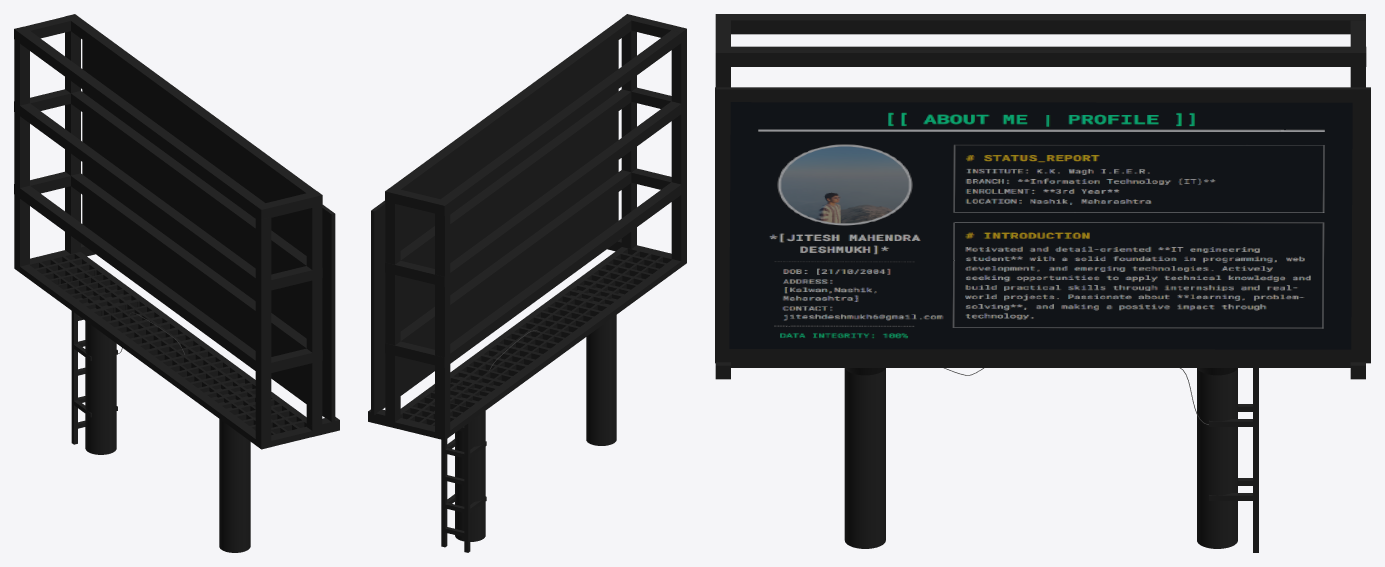
File: billboard1.glb
3 views of the same model, side by side, from view 1: azimuth 30°, elevation 25°; view 2: azimuth 150°, elevation 25°; view 3: azimuth 270°, elevation 25° (orthographic). The views are drawn at different scales.
Visible parts, largest first — view 1: Cube_3, Cube.002_5, Cube.009_12, Cube.010_14, Cube.008_13, Cylinder.001_35, Cube.007_11, Cylinder.002_6, Cube.006_10, Cube.004_8, Cube.005_9, Cube.019_23 (+6 smaller); view 2: Cube_3, Cube.002_5, Cube.009_12, Cube.008_13, Cube.010_14, Cylinder.001_35, Cube.004_8, Cube.005_9, Cube.007_11, Cylinder.002_6, Cube.006_10, Cube.019_23 (+7 smaller); view 3: Plane_2, Cube_3, Cube.009_12, Cylinder.001_35, Cylinder.002_6, Cube.002_5, Cube.020_24, Cube.016_20.
Boxes of the visible parts, bbox=[...] form: Cube_3: bbox=[82, 40, 335, 422]; Cube.002_5: bbox=[20, 250, 312, 446]; Cube.009_12: bbox=[14, 14, 322, 219]; Cube.010_14: bbox=[14, 89, 306, 292]; Cube.008_13: bbox=[14, 173, 310, 374]; Cylinder.001_35: bbox=[219, 419, 250, 552]; Cube.007_11: bbox=[255, 215, 271, 449]; Cylinder.002_6: bbox=[85, 321, 116, 454]; Cube.006_10: bbox=[306, 204, 322, 436]; Cube.004_8: bbox=[14, 40, 29, 272]; Cube.005_9: bbox=[65, 31, 80, 253]; Cube.019_23: bbox=[71, 311, 77, 444]; Cube_3: bbox=[371, 40, 618, 415]; Cube.002_5: bbox=[395, 245, 681, 437]; Cube.009_12: bbox=[385, 18, 686, 215]; Cube.008_13: bbox=[385, 168, 685, 367]; Cube.010_14: bbox=[385, 89, 685, 286]; Cylinder.001_35: bbox=[586, 315, 616, 445]; Cube.004_8: bbox=[435, 211, 450, 440]; Cube.005_9: bbox=[385, 202, 400, 427]; Cube.007_11: bbox=[671, 38, 686, 266]; Cylinder.002_6: bbox=[455, 411, 485, 541]; Cube.006_10: bbox=[621, 30, 636, 244]; Cube.019_23: bbox=[464, 422, 470, 552]; Plane_2: bbox=[729, 102, 1352, 349]; Cube_3: bbox=[715, 87, 1370, 363]; Cube.009_12: bbox=[716, 14, 1366, 66]; Cylinder.001_35: bbox=[844, 368, 885, 548]; Cylinder.002_6: bbox=[1197, 368, 1237, 548]; Cube.002_5: bbox=[731, 363, 1350, 367]; Cube.020_24: bbox=[1253, 368, 1258, 552]; Cube.016_20: bbox=[715, 14, 730, 66].
Size of the model in its own units: 3.3 by 15.61 by 18.17.
3 materials, 1 textured.
